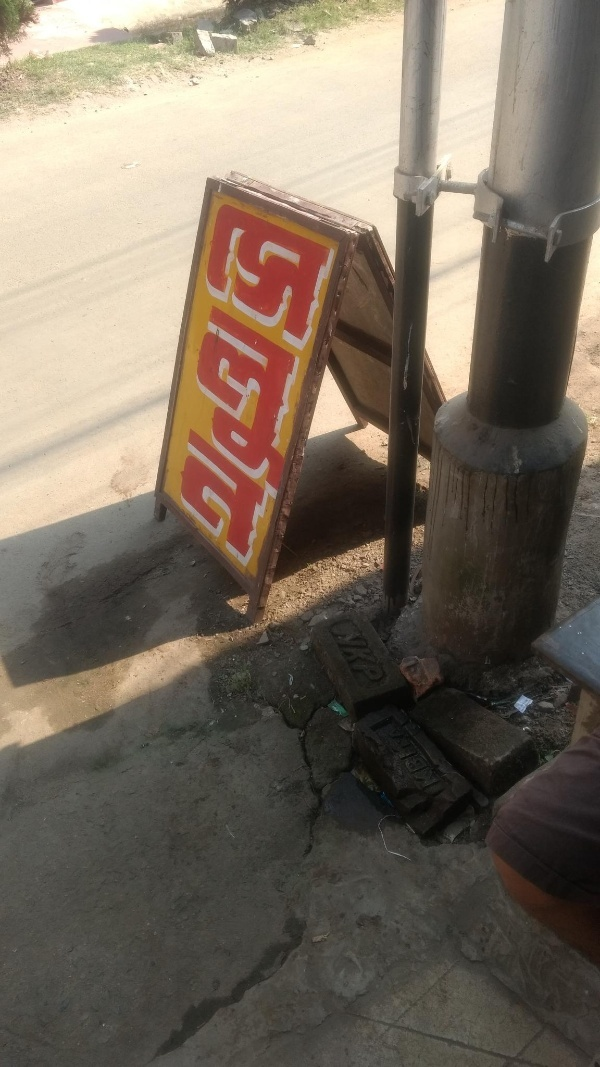text: (193, 294, 208, 505), (209, 294, 224, 505), (225, 294, 240, 505), (241, 294, 256, 505), (257, 294, 272, 505), (273, 294, 288, 505), (289, 294, 304, 505), (257, 419, 273, 579), (225, 200, 240, 364), (241, 200, 256, 364), (257, 200, 272, 364), (273, 200, 288, 364), (289, 200, 304, 364), (305, 200, 320, 364), (321, 200, 336, 364), (193, 419, 208, 579), (209, 419, 224, 579), (225, 419, 240, 579), (241, 419, 256, 579), (210, 200, 224, 364), (305, 294, 315, 505), (183, 419, 192, 579), (401, 722, 416, 794), (417, 722, 432, 794), (433, 722, 447, 794), (337, 627, 352, 686), (353, 627, 368, 686), (369, 627, 384, 686), (327, 627, 336, 686), (337, 200, 340, 364), (385, 627, 387, 686), (399, 722, 400, 794)
